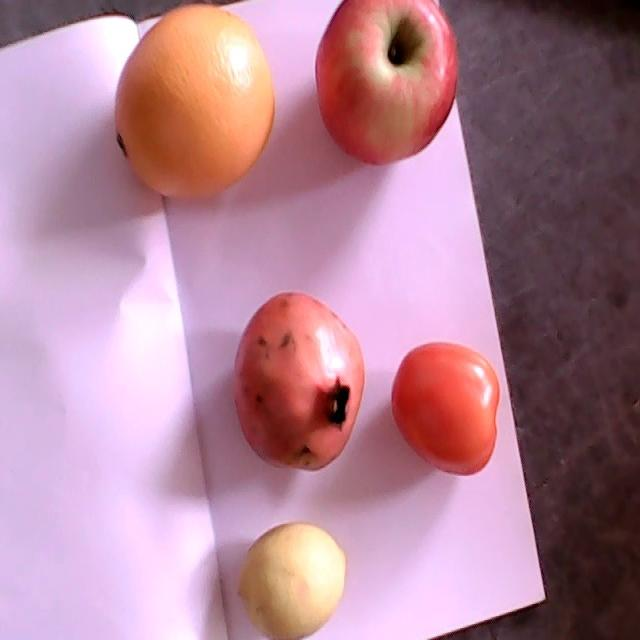apple: (316, 0, 458, 165)
lemon: (236, 524, 348, 639)
orange: (115, 2, 274, 199)
pomegranate: (233, 293, 365, 472)
tomato: (391, 343, 499, 475)
